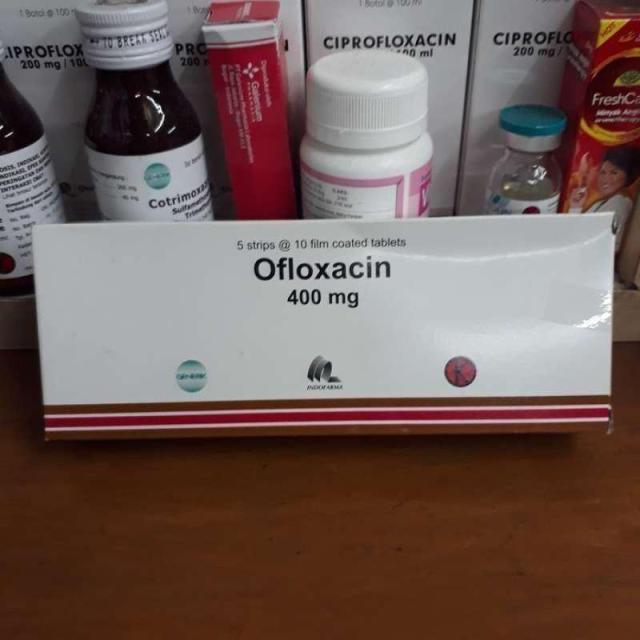drug-name: (248, 250, 397, 288)
